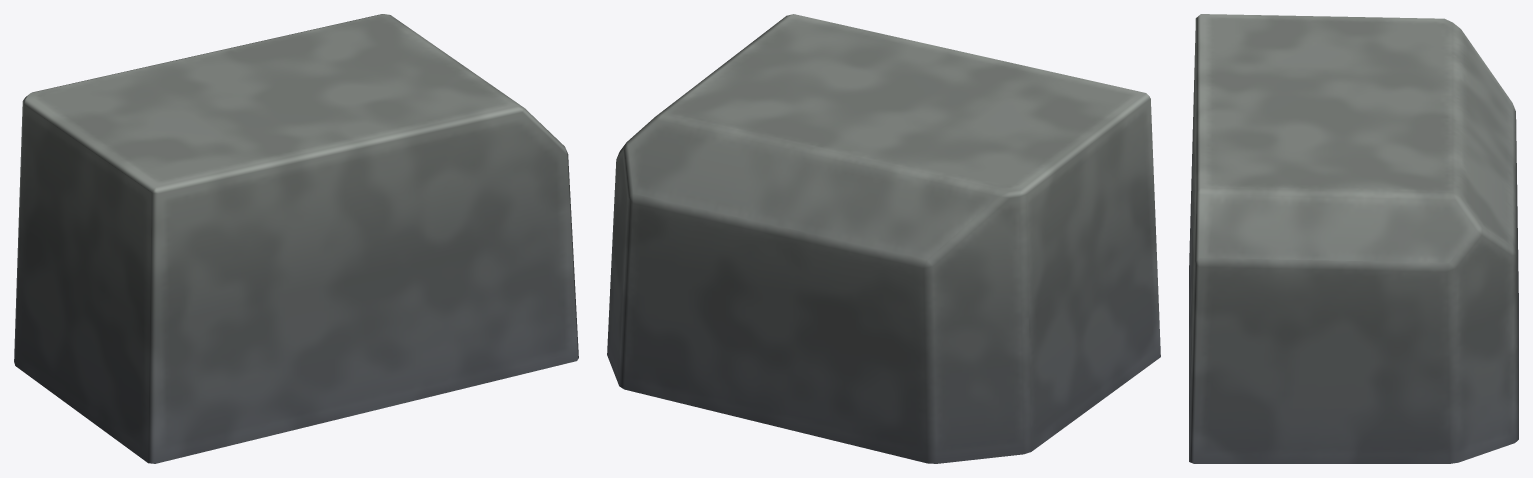
File: block_1.glb
3 renders of one model, left to right at view 1: azimuth 30°, elevation 25°; view 2: azimuth 150°, elevation 25°; view 3: azimuth 270°, elevation 25°, orthographic. The views are drawn at different scales.
Visible parts, largest first — view 1: block_1; view 2: block_1; view 3: block_1.
Boxes of the visible parts, left/top/right/bottom form: block_1: left=14, top=14, right=578, bottom=463; block_1: left=607, top=14, right=1160, bottom=463; block_1: left=1189, top=14, right=1518, bottom=463.
Size of the model in its own units: 0.5 by 0.3 by 0.35.
1 material, 1 textured.
